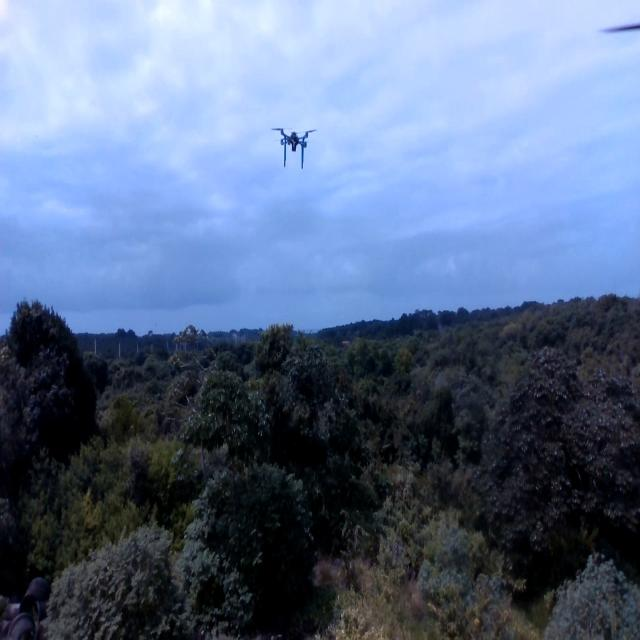-uav-: (266, 108, 322, 181)
